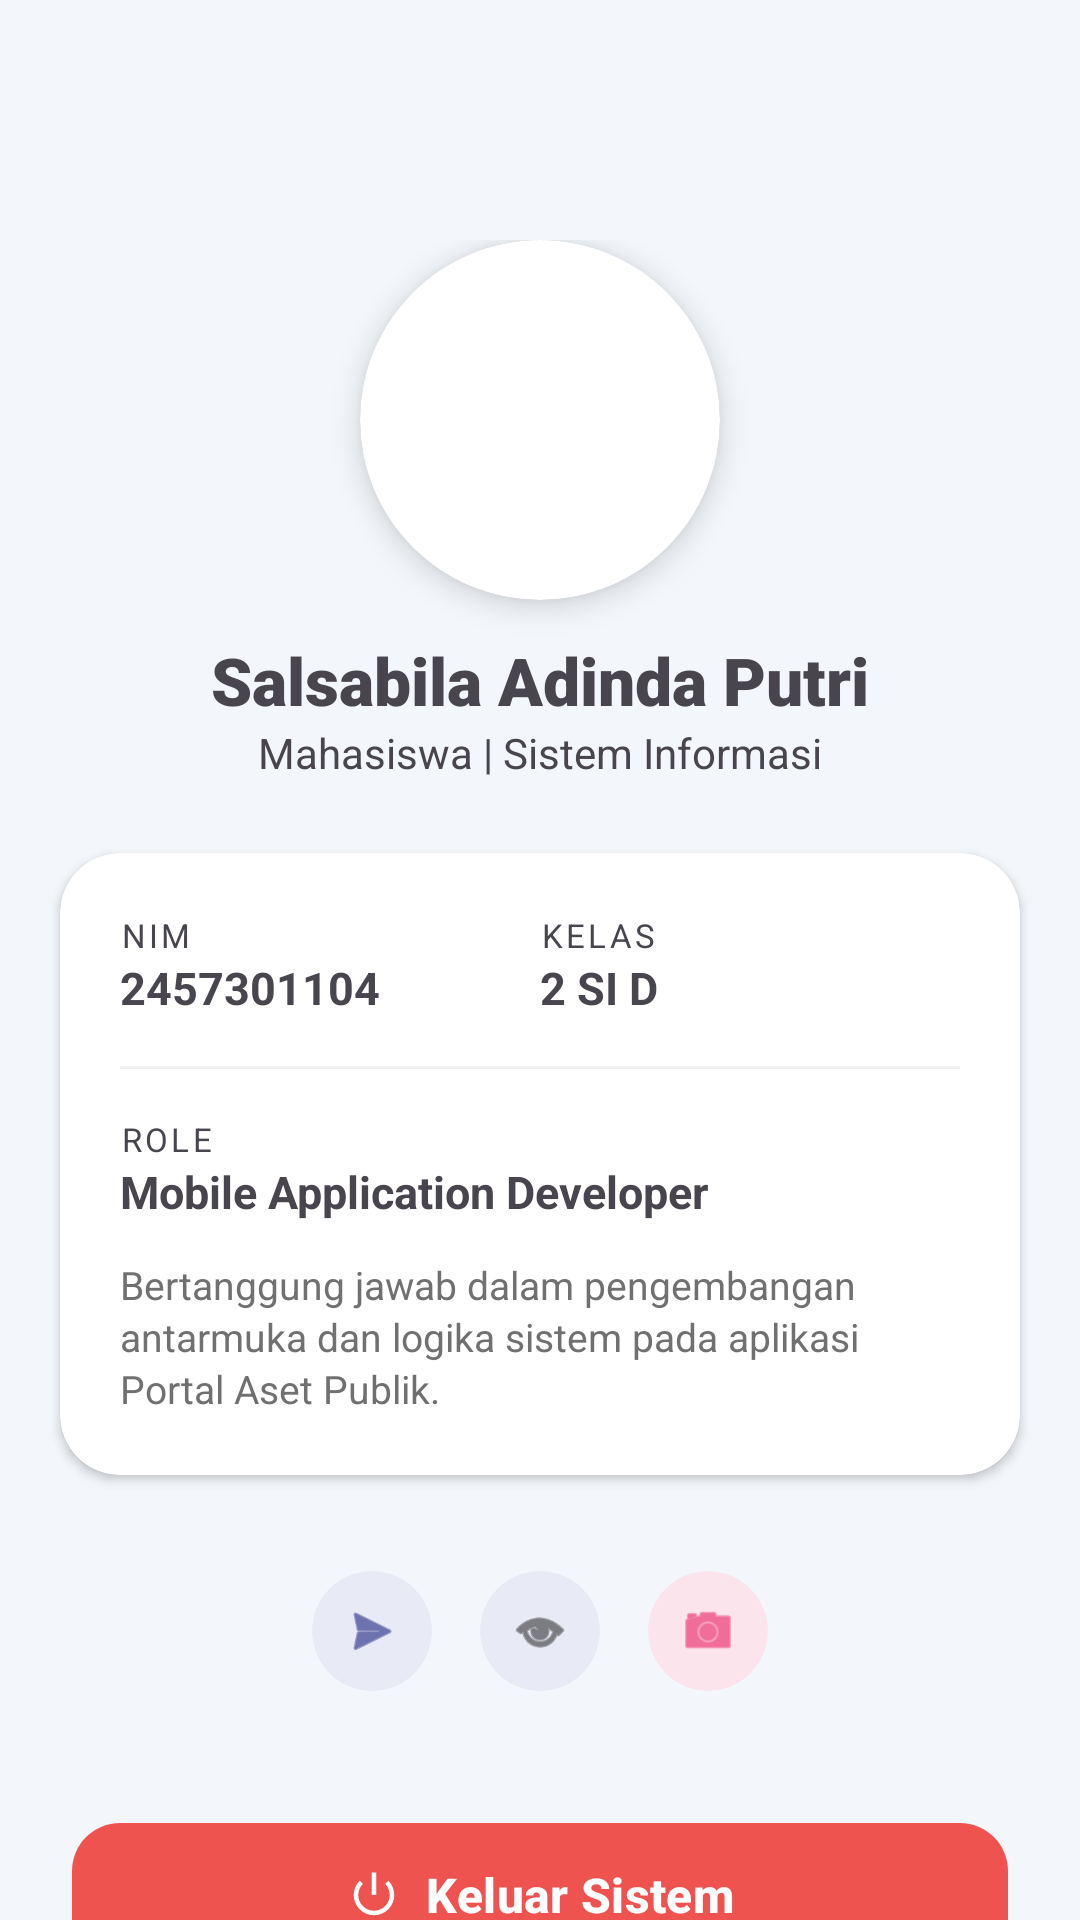

Named icons in this screenshot (1080px×1920px) and their bounding boxes, (x1, y1, x2, y2):
camera: (685, 1612, 731, 1649)
send: (353, 1612, 392, 1650)
view: (516, 1617, 564, 1648)
